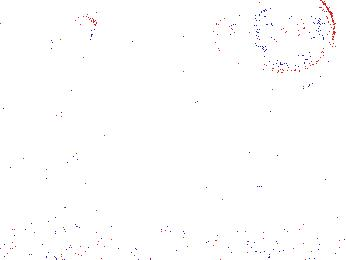moon jellyfish: (243, 1, 336, 77), (212, 18, 285, 71), (258, 44, 333, 91), (50, 16, 99, 80), (28, 1, 115, 26), (1, 23, 23, 83)
